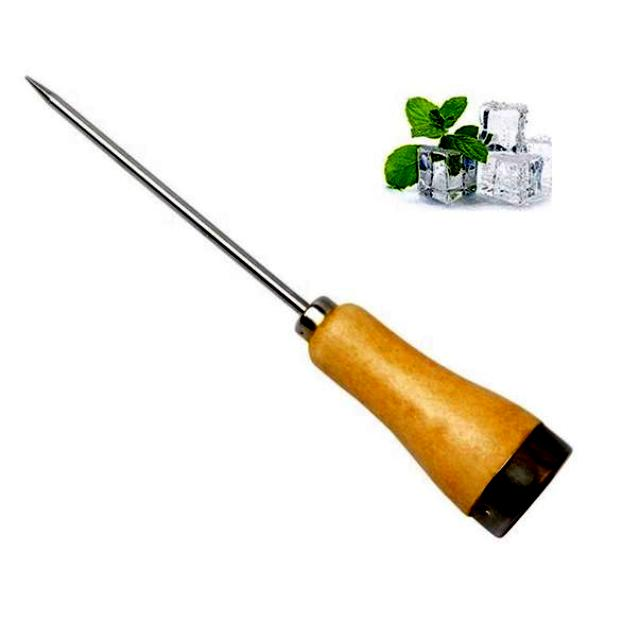ice pick: (21, 73, 576, 543)
